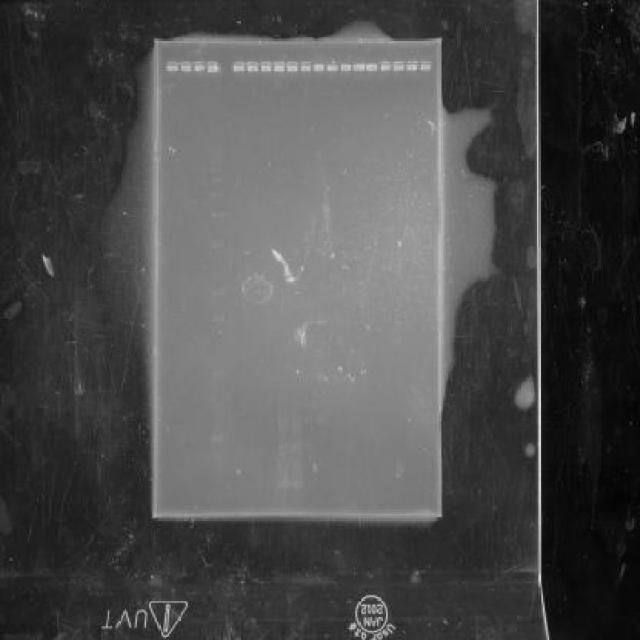B: (274, 478, 288, 492), (290, 478, 304, 492), (313, 414, 329, 426), (290, 440, 304, 452), (278, 441, 290, 454), (290, 416, 304, 426), (314, 372, 328, 381), (278, 417, 290, 426)
L: (163, 55, 437, 77)
M: (208, 128, 228, 448)
P: (211, 434, 226, 444), (210, 288, 226, 296), (210, 370, 224, 378), (212, 314, 226, 322), (210, 242, 224, 250), (210, 192, 224, 200), (211, 212, 224, 220), (210, 154, 224, 160), (210, 178, 223, 184), (210, 167, 223, 173), (210, 160, 222, 166), (210, 146, 222, 152), (209, 144, 222, 148), (210, 152, 222, 154)
Pc: (206, 60, 220, 74), (272, 60, 286, 74), (179, 60, 192, 74), (192, 60, 206, 72), (232, 60, 246, 72), (418, 60, 432, 72), (298, 60, 312, 72), (406, 60, 419, 72), (379, 60, 392, 72), (392, 60, 405, 71), (166, 62, 180, 72), (246, 62, 260, 72), (352, 62, 366, 72), (286, 62, 300, 72), (259, 62, 273, 72), (366, 62, 379, 72), (339, 62, 352, 72), (312, 63, 326, 72), (326, 64, 339, 72)
